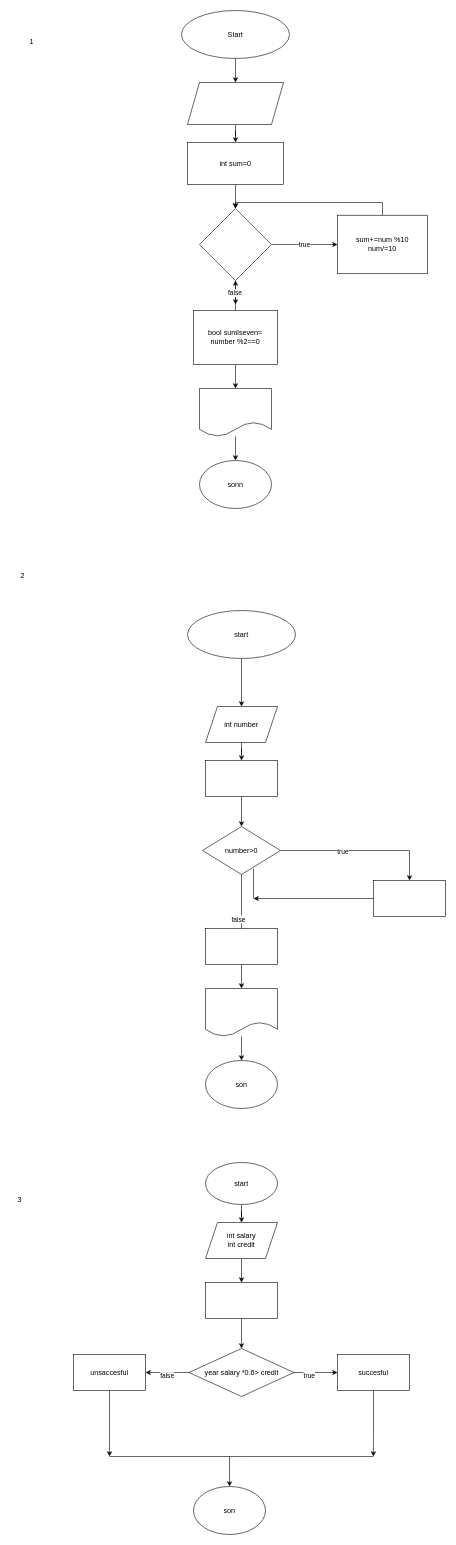
Some shapes in this 456 by 1545 pixel diagram are drawn without their labels. Each missing label, with the centre of its shape:
"avarange" goes at (241,1012).
"int avarage= sum/count" goes at (241,946).
"int num" goes at (235,103).
"int sum=0 int count=0" goes at (241,778).
"num>0" goes at (235,244).
"sum+=number%10 count++ number/=10" goes at (409,898).
"sumlsEven" goes at (235,412).
"year salary= salary*12" goes at (241,1300).
